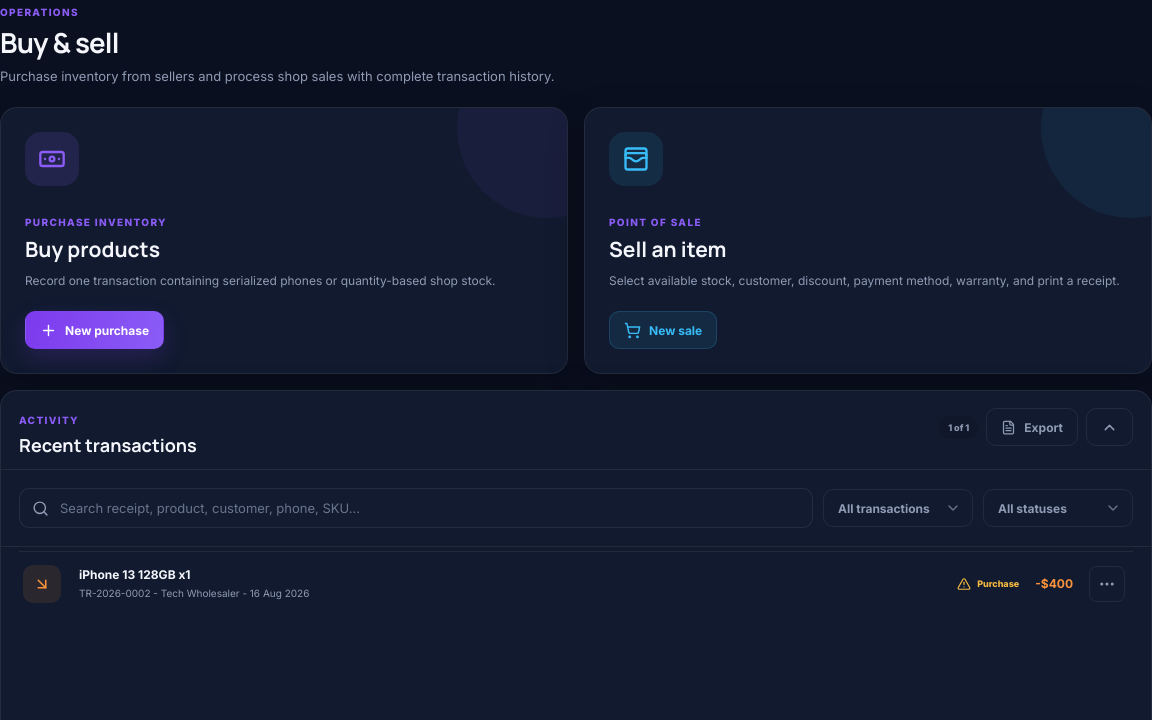
Scenario: TradePage feature integration › renders purchase transaction variant and seller information properly
Expected: the text "TR-2026-0002 - Tech Wholesaler - 16 Aug 2026" is shown, [79,587,309,599]
Expected: the text "-$400" is shown, [1035,576,1073,592]
Click the button with aria-label "View TR-2026-0002" at (42, 584), box [19,552,1133,616]
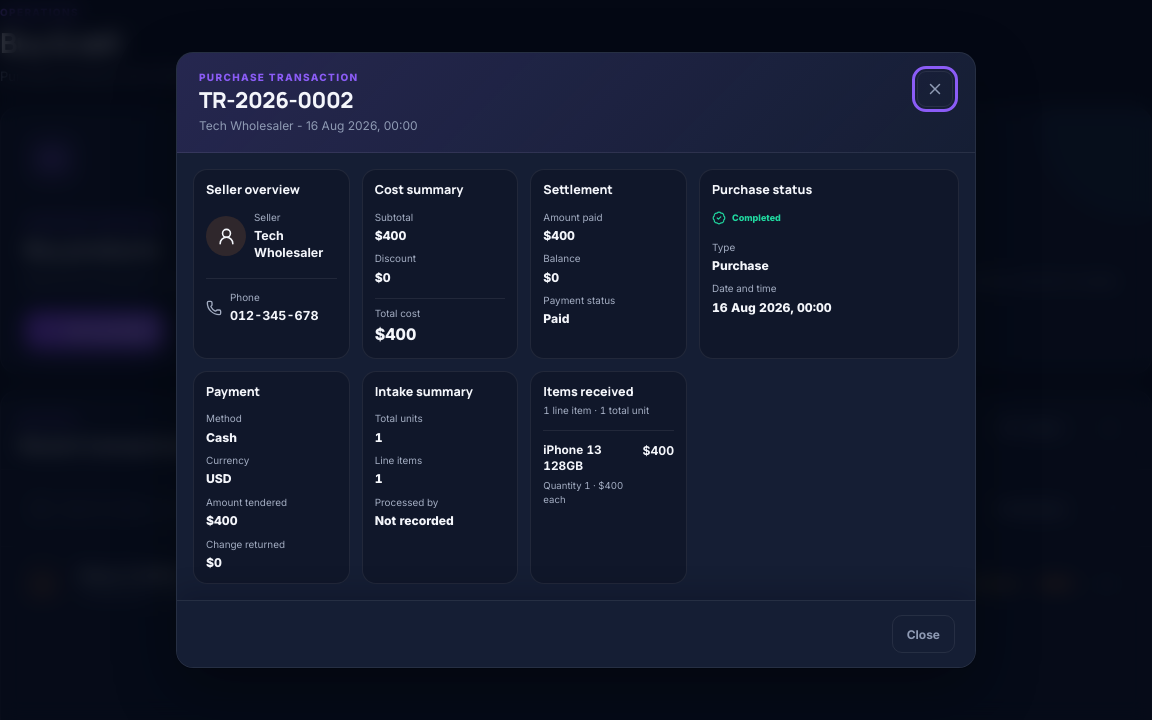
Now the dialog is shown, box [176,52,976,668]
Now the text "Purchase transaction" is shown, box [199,70,358,82]
Now the text "Seller" is shown, box [254,210,280,222]
